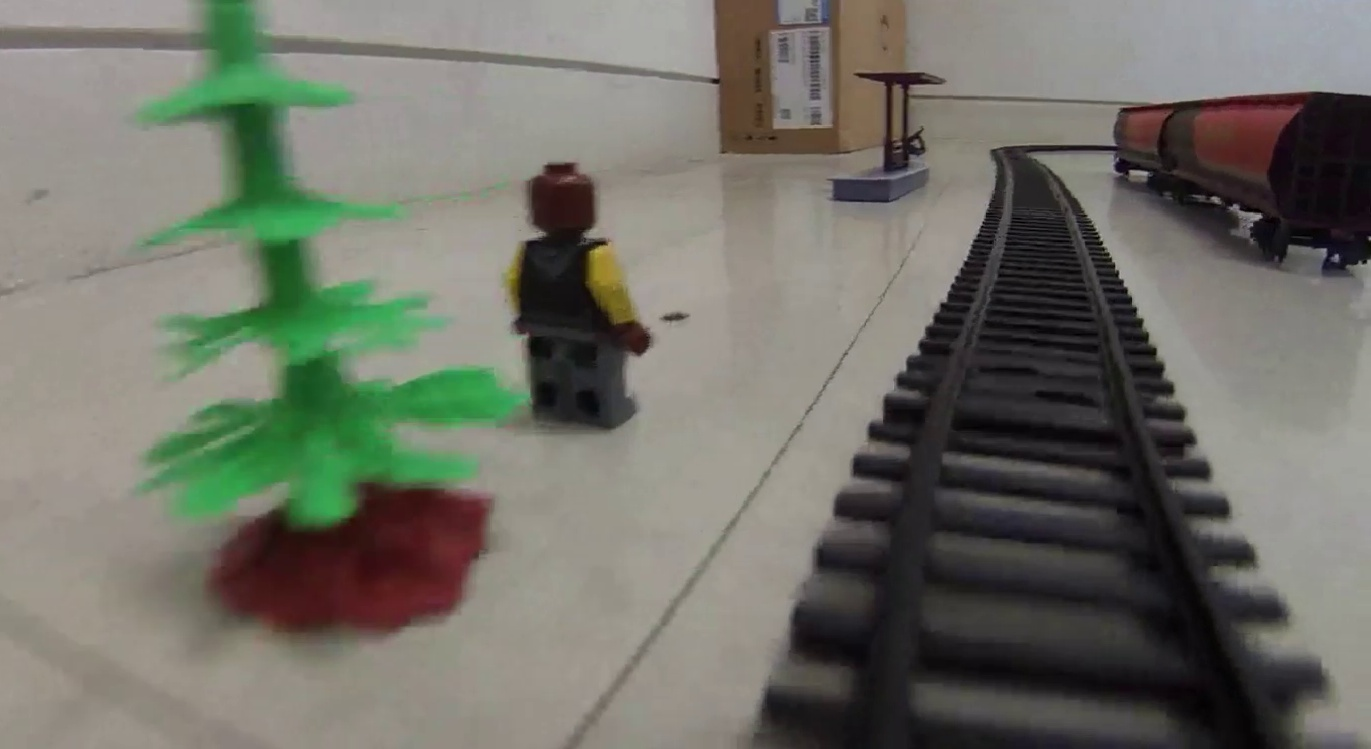people: (506, 161, 654, 428)
tree: (132, 1, 513, 640)
